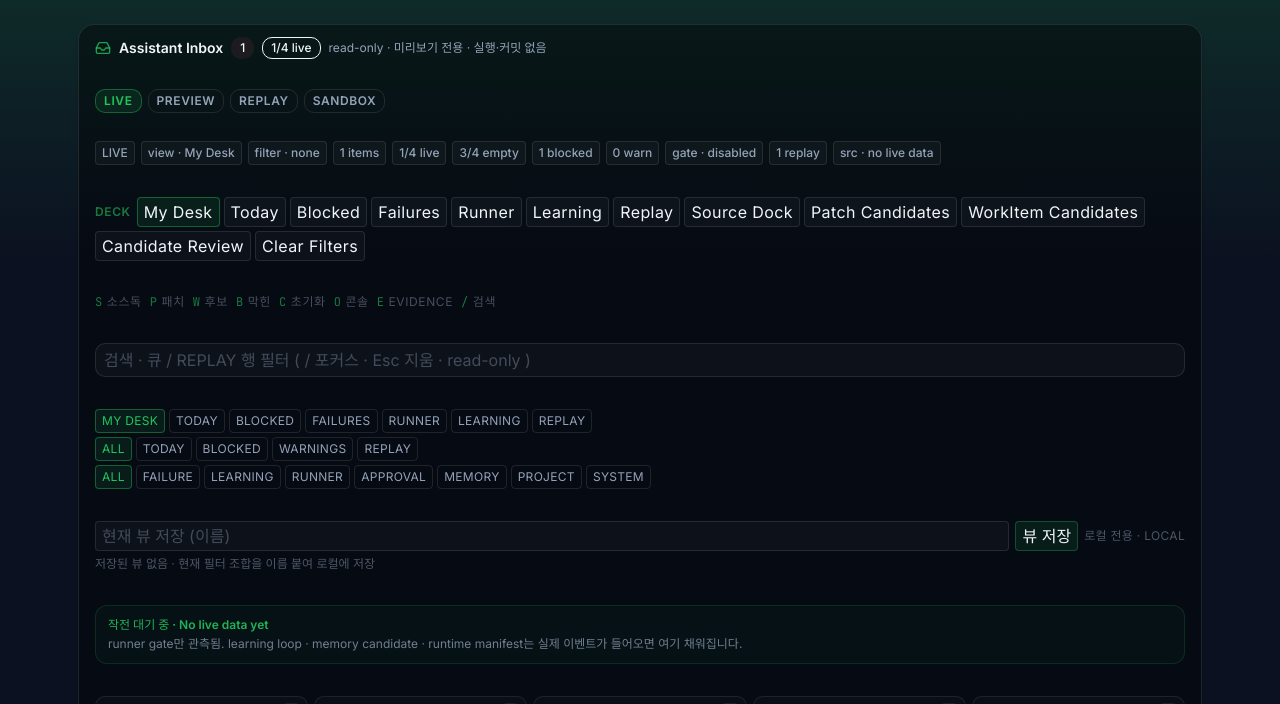
Batch 12 — LINE B/C: user saved view manager (local UI pref) › saves the current view locally, applies it, and deletes it
This screenshot has width=1280, height=704.
Expected: the element with test id "saved-view-manager" is shown, left=79, top=521, right=1201, bottom=581
Expected: the text "저장된 뷰 없음 · 현재 필터 조합을 이름 붙여 로컬에 저장" is shown, left=95, top=556, right=375, bottom=571
Click the radio button with test id "inbox-focus-blocked".
click(232, 449)  # box left=196, top=437, right=268, bottom=461
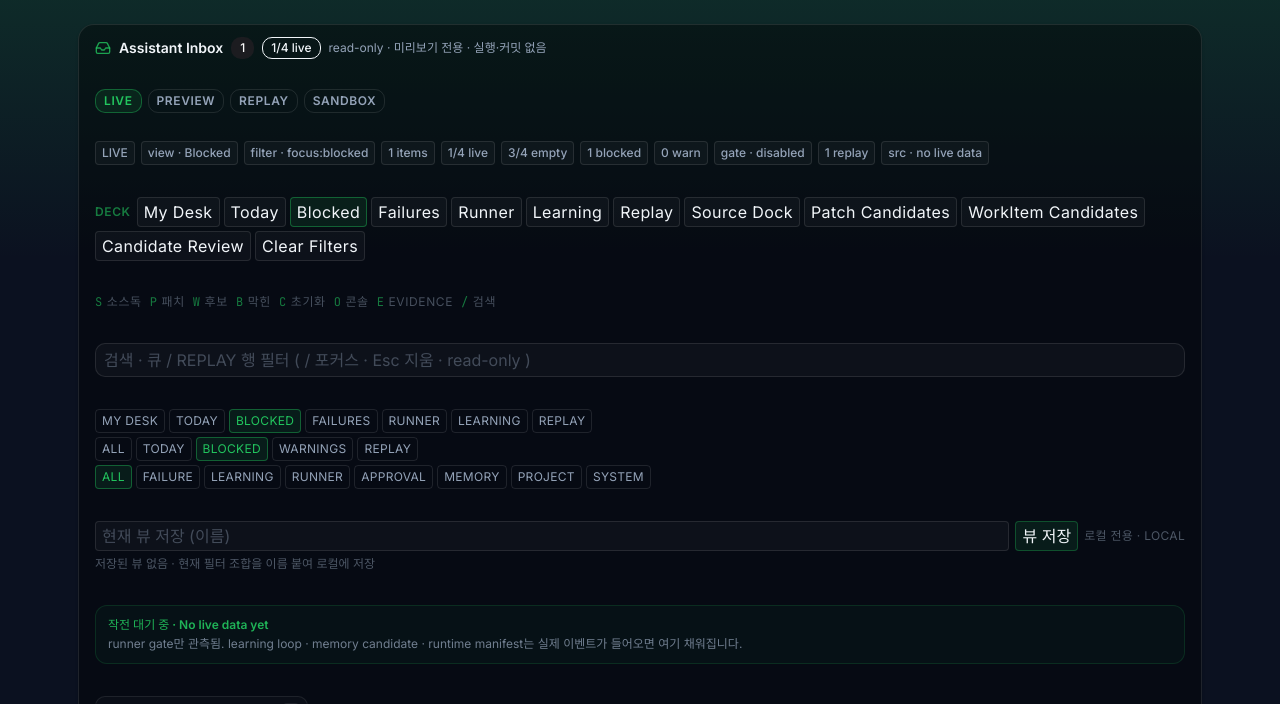
Type "blocked-desk" into the field with test id "saved-view-name".
click(552, 536); type("blocked-desk")  # box left=95, top=521, right=1010, bottom=551
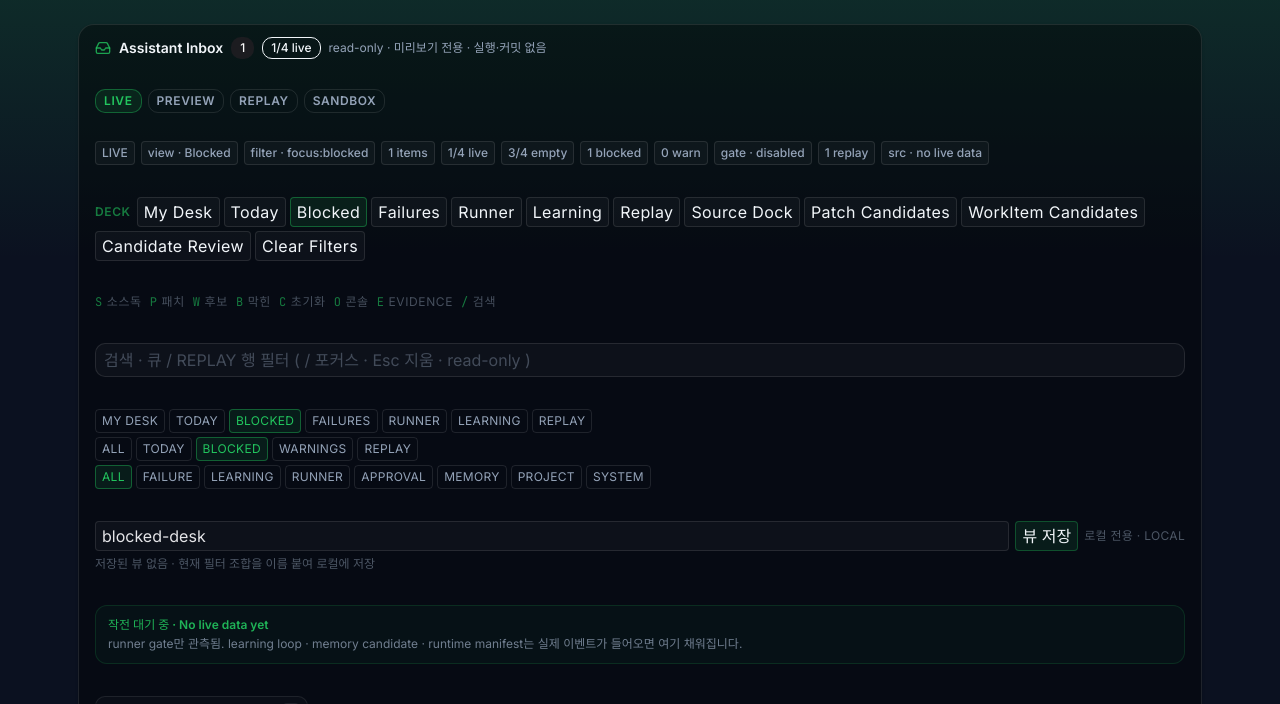
Click the button with test id "saved-view-save".
click(1047, 536)  # box left=1016, top=521, right=1078, bottom=551
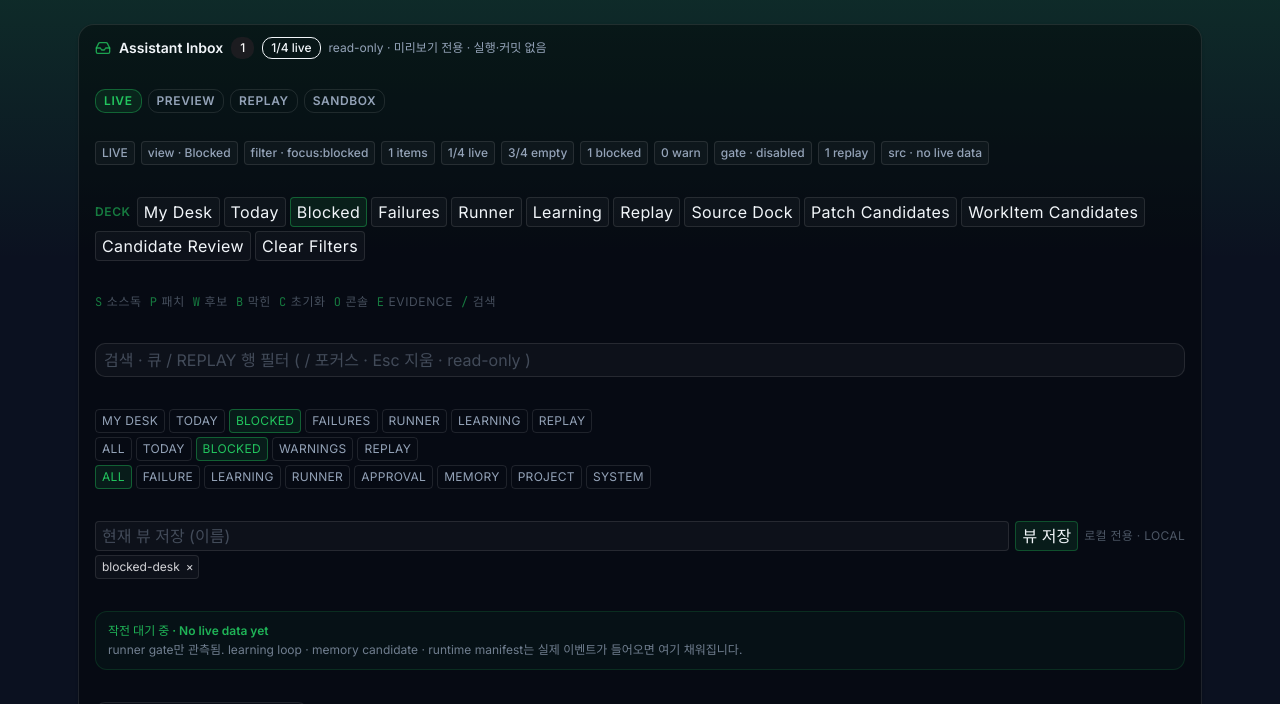
Expected: the list item with test id "saved-view-blocked-desk" is shown, left=95, top=555, right=199, bottom=579
Click the radio button with test id "inbox-focus-all".
click(113, 449)  # box left=95, top=437, right=132, bottom=461
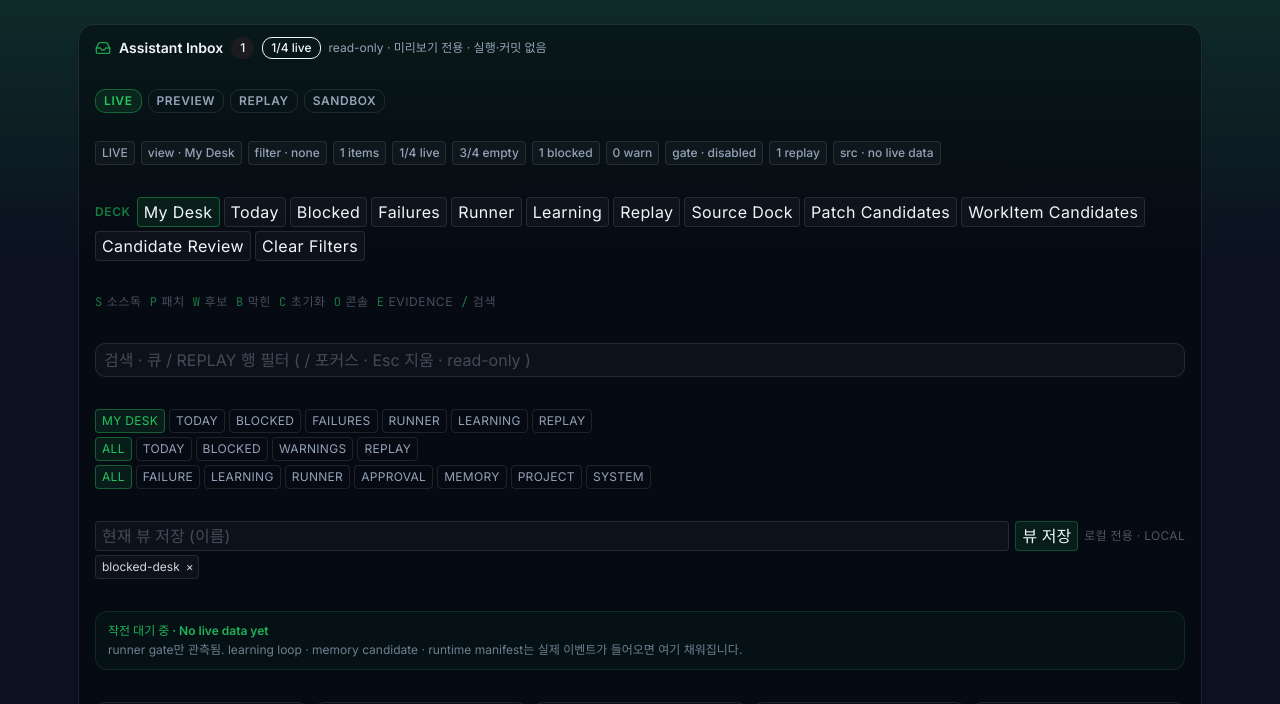
Click the button with test id "saved-view-apply-blocked-desk".
click(141, 567)  # box left=102, top=556, right=180, bottom=578
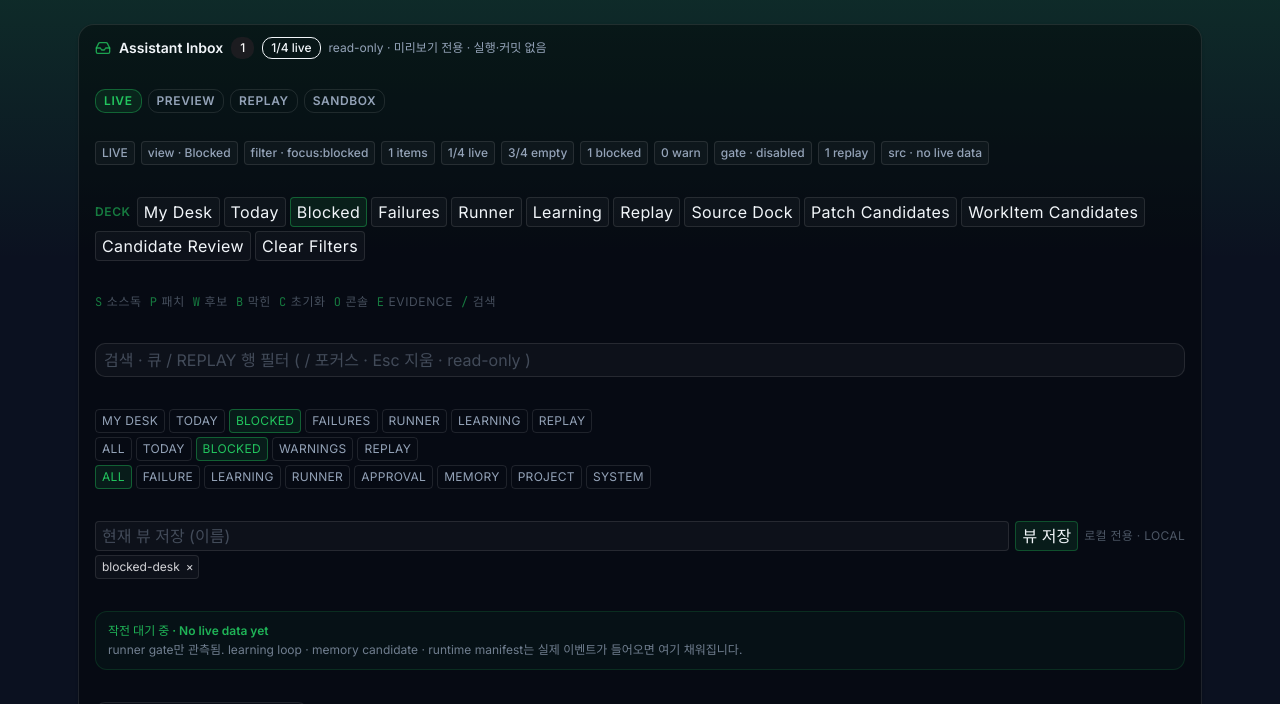
Click the button with test id "saved-view-delete-blocked-desk".
click(190, 567)  # box left=182, top=556, right=198, bottom=578
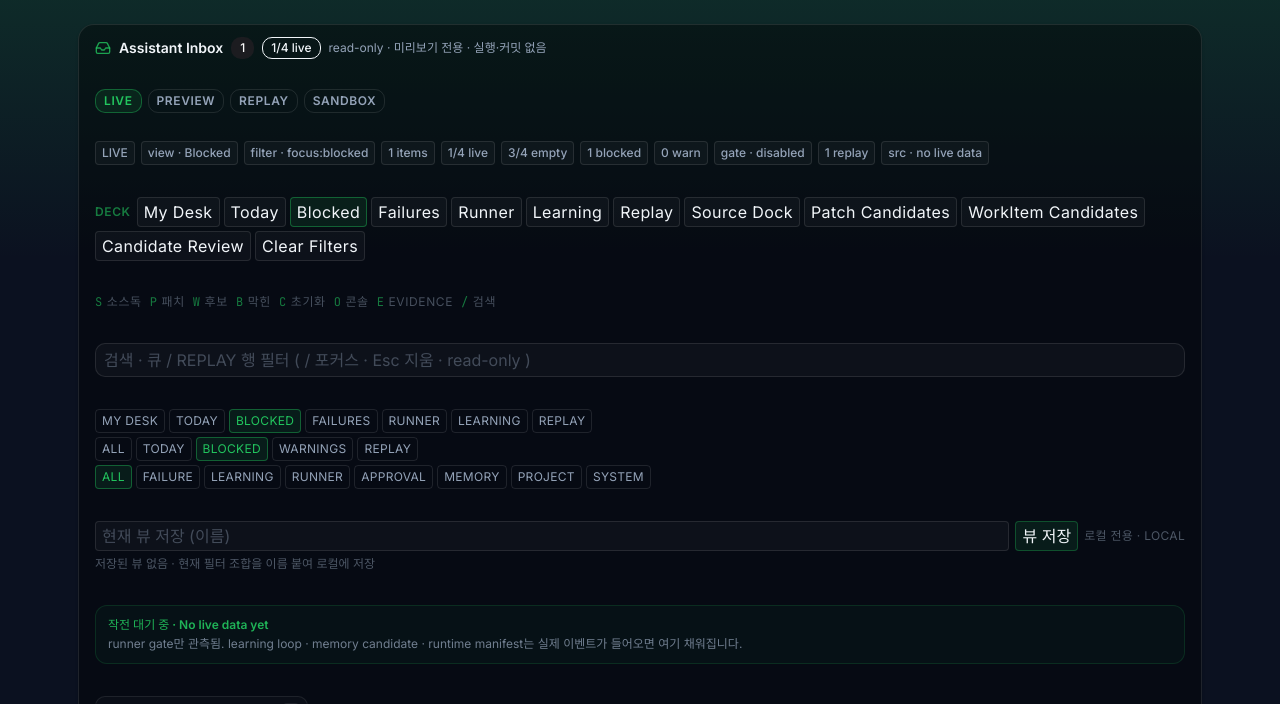
Expected: the list item with test id "saved-view-blocked-desk" is gone
Expected: the text "저장된 뷰 없음 · 현재 필터 조합을 이름 붙여 로컬에 저장" is shown, left=95, top=556, right=375, bottom=571
